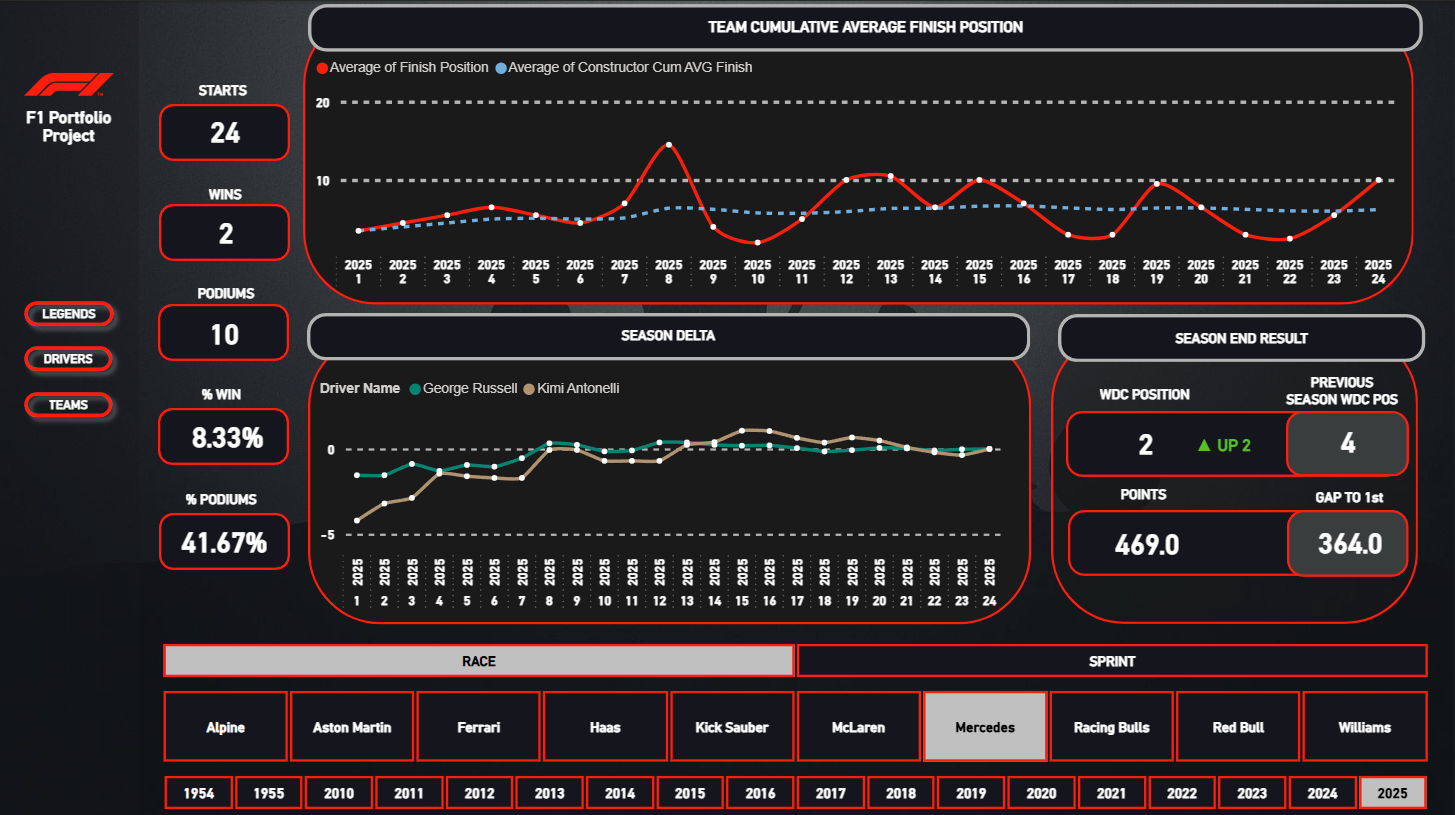

The page's visual inventory and layout, read from the dashboard file:
{"tool":"powerbi","page":{"name":"TEAMS","canvas":[1280,720],"ordinal":2},"visuals":[{"type":"image","title":"legends-background","box":[0,0,1280,719.5],"z":0},{"type":"shape","box":[0,0,124.6,719.6],"z":0,"group":"g3"},{"type":"shape","box":[268.8,9.8,975.5,257],"z":0,"group":"g18"},{"type":"shape","box":[142.1,90.6,115,50],"z":0,"group":"g14"},{"type":"shape","box":[142.1,178.2,115,50],"z":0,"group":"g10"},{"type":"shape","box":[141.3,266.9,115,50],"z":0,"group":"g8"},{"type":"shape","title":"Header Container","box":[931.2,274.8,322.5,42.3],"z":0,"group":"g11"},{"type":"shape","title":"Main Container","box":[925.5,289.1,322.4,258.1],"z":0,"group":"g15"},{"type":"shape","box":[272.4,292.2,635,255],"z":0,"group":"g17"},{"type":"textbox","box":[1125.1,322.3,112.5,45.7],"z":0,"group":"g12"},{"type":"textbox","box":[963.3,332.6,95.6,38.9],"z":0,"group":"g16"},{"type":"shape","box":[141,357.4,115,50],"z":0,"group":"g4"},{"type":"shape","title":"Main Holder","box":[938.6,360.3,295.8,57.8],"z":0,"group":"g9"},{"type":"group","id":"g1","title":"Current Points","box":[940.5,420.6,295.8,84.3],"z":0,"group":"g5"},{"type":"group","id":"g2","title":"% Race Podium","box":[142.1,425.2,115,74.9],"z":0,"group":"g7"},{"type":"shape","box":[940.5,447.1,295.8,57.8],"z":0,"group":"g1"},{"type":"shape","title":"Gap Holder","box":[1132.8,447.1,106.7,58.6],"z":0,"group":"g6"},{"type":"shape","box":[142.1,450.1,115,50],"z":0,"group":"g2"},{"type":"slicer","title":"Slicer Year","fields":{"Values":["DIM_year.Year"]},"box":[121.3,673.5,1158.3,38.2],"z":0,"group":"g13"},{"type":"group","id":"g3","title":"Sidebar_Master","box":[0,0,124.6,719.8],"z":1000},{"type":"lineChart","fields":{"Category":["DIM_round.Round","DIM_year.Year"],"Y":["Avg(v_analytics_race_evolution.Finish Position)","Avg(v_analytics_race_evolution.Constructor Cum AVG Finish)"]},"box":[274.7,39.5,958.8,222.5],"z":1000,"group":"g18"},{"type":"textbox","box":[172.1,66,65,26.5],"z":1000,"group":"g14"},{"type":"textbox","box":[180.5,157.1,45.8,34.9],"z":1000,"group":"g10"},{"type":"textbox","box":[171.3,244.6,63.8,26.5],"z":1000,"group":"g8"},{"type":"textbox","title":"text","box":[931.2,283.7,322.5,30],"z":1000,"group":"g11"},{"type":"actionButton","title":"Drivers_btn","box":[14.7,294.3,95.3,39.8],"z":1000,"group":"g3"},{"type":"lineChart","title":"Season Delta Chart","fields":{"Y":["Avg(v_analytics_race_evolution.Driver Finish Season Delta)"],"Category":["DIM_round.Round","DIM_year.Year"],"Series":["DIM_drivers.Driver Name"]},"box":[277.7,320.8,607.8,222.8],"z":1000,"group":"g17"},{"type":"group","id":"g4","title":"% Race Win","box":[141,332.9,115.7,74.5],"z":1000,"group":"g7"},{"type":"textbox","box":[174.6,332.9,48.2,26.5],"z":1000,"group":"g4"},{"type":"shape","title":"Prev WDC Holder","box":[1131.8,360.4,107.8,57.4],"z":1000,"group":"g9"},{"type":"card","fields":{"Values":["Sum(v_report_constructor_master.WCC Position)"]},"box":[980,364.9,57.8,45.6],"z":1000,"group":"g16"},{"type":"card","fields":{"Values":["v_analytics_race_evolution._Prev Year WCC Pos Team"]},"box":[1128.6,365.7,116,43.4],"z":1000,"group":"g12"},{"type":"group","id":"g5","title":"Points","box":[940.5,420.6,303.4,85.1],"z":1000,"group":"g15"},{"type":"textbox","box":[982,420.6,58.9,26.7],"z":1000,"group":"g1"},{"type":"group","id":"g6","title":"Gap Points","box":[1099.6,423.5,144.4,82.2],"z":1000,"group":"g5"},{"type":"textbox","box":[160.1,425.2,92,25],"z":1000,"group":"g2"},{"type":"slicer","title":"Slicer Driver","fields":{"Values":["DIM_constructors.Constructor Name"]},"box":[120.1,598.1,1159.5,76.4],"z":1000,"group":"g13"},{"type":"shape","box":[272.9,2.4,978.9,41.9],"z":2000,"group":"g18"},{"type":"image","box":[23.9,49.6,79.5,48.6],"z":2000,"group":"g3"},{"type":"group","id":"g7","title":"Stat_Box","box":[141,66,116.8,434.1],"z":2000},{"type":"card","fields":{"Values":["v_analytics_race_evolution._Dynamic Team Race Starts"]},"box":[170.1,91.7,60,46],"z":2000,"group":"g14"},{"type":"card","fields":{"Values":["v_analytics_race_evolution._Dynamic Team Wins1"]},"box":[171.1,180,60,46],"z":2000,"group":"g10"},{"type":"group","id":"g8","title":"Podiums","box":[141.3,244.6,114.5,72.3],"z":2000,"group":"g7"},{"type":"card","fields":{"Values":["v_analytics_race_evolution._Dynamic Team Podium"]},"box":[169.3,268.9,60,46],"z":2000,"group":"g8"},{"type":"shape","box":[271.9,273.8,635.2,41.6],"z":2000,"group":"g17"},{"type":"group","id":"g9","title":"WDC","box":[938.6,322.3,306.1,95.8],"z":2000,"group":"g15"},{"type":"card","fields":{"Values":["v_analytics_race_evolution._Win % Team"]},"box":[157.8,358,89.1,48.2],"z":2000,"group":"g4"},{"type":"card","title":"YoY WDC","fields":{"Values":["v_analytics_race_evolution._WDC YoY Diff Team"]},"box":[1029.4,369.1,94.9,44.5],"z":2000,"group":"g9"},{"type":"textbox","box":[1153.5,423.5,72.7,27],"z":2000,"group":"g6"},{"type":"card","title":"Points Card","fields":{"Values":["Sum(v_report_constructor_master.Official Season Points)"]},"box":[955,450.4,111.2,51.2],"z":2000,"group":"g1"},{"type":"card","fields":{"Values":["v_analytics_race_evolution._Podium % Team"]},"box":[147.9,451.1,102.3,46.4],"z":2000,"group":"g2"},{"type":"slicer","title":"Slicer Session","fields":{"Values":["DIM_session_type.Session Type"]},"box":[120.1,557.2,1160.2,41.6],"z":2000,"group":"g13"},{"type":"textbox","title":"Champion_seasons_txt","box":[271.6,10.4,983.1,30],"z":3000,"group":"g18"},{"type":"textbox","box":[5.8,89,113.8,91.1],"z":3000,"group":"g3"},{"type":"group","id":"g10","title":"Race Wins","box":[142.1,157.1,115.7,71.2],"z":3000,"group":"g7"},{"type":"group","id":"g11","title":"Header","box":[931.2,274.8,322.5,42.3],"z":3000,"group":"g15"},{"type":"textbox","title":"World_champions_txt","box":[273.1,280.9,632.8,27],"z":3000,"group":"g17"},{"type":"group","id":"g12","title":"Prev year WDC pos","box":[1125.1,322.3,119.6,86.7],"z":3000,"group":"g9"},{"type":"card","fields":{"Values":["v_analytics_race_evolution._Gap to Leader Team"]},"box":[1132.6,450.5,111.4,50.4],"z":3000,"group":"g6"},{"type":"group","id":"g13","title":"Slicers","box":[120.1,557.2,1159.9,154.6],"z":3000},{"type":"group","id":"g14","title":"Race Starts","box":[142.1,66,115.7,74.5],"z":4000,"group":"g7"},{"type":"group","id":"g15","title":"Overall Season","box":[925.5,274.8,328.3,272.4],"z":4000},{"type":"group","id":"g16","title":"WDC Position","box":[963.3,332.6,95.6,77.8],"z":4000,"group":"g9"},{"type":"actionButton","title":"Teams_btn","box":[14.7,334.1,95.3,39.8],"z":4000,"group":"g3"},{"type":"actionButton","title":"Legends_btn","box":[14.7,254.5,96.4,39.8],"z":5000,"group":"g3"},{"type":"group","id":"g17","title":"Season Delta","box":[271.9,273.8,635.5,273.4],"z":6000},{"type":"group","id":"g18","title":"Team Cum AVG","box":[268.8,2.4,986.2,264.1],"z":6500}]}

Visuals, with their boxes in screenshot pixels (x1, y1, x2, y2), scaled from the page's 1280x720 canvas onto the 1455x815 screenshot:
"legends-background" image: crop(0, 0, 1454, 814)
shape: crop(0, 0, 142, 814)
shape: crop(306, 11, 1414, 302)
shape: crop(162, 103, 292, 159)
shape: crop(162, 202, 292, 258)
shape: crop(161, 302, 291, 359)
"Header Container" shape: crop(1059, 311, 1425, 359)
"Main Container" shape: crop(1052, 327, 1419, 619)
shape: crop(310, 331, 1031, 619)
textbox: crop(1279, 365, 1407, 417)
textbox: crop(1095, 376, 1204, 421)
shape: crop(160, 405, 291, 461)
"Main Holder" shape: crop(1067, 408, 1403, 473)
"Current Points" group: crop(1069, 476, 1405, 572)
"% Race Podium" group: crop(162, 481, 292, 566)
shape: crop(1069, 506, 1405, 572)
"Gap Holder" shape: crop(1288, 506, 1409, 572)
shape: crop(162, 509, 292, 566)
"Slicer Year" slicer: crop(138, 762, 1454, 806)
"Sidebar_Master" group: crop(0, 0, 142, 814)
lineChart - DIM_round.Round x DIM_year.Year: crop(312, 45, 1402, 297)
textbox: crop(196, 75, 270, 105)
textbox: crop(205, 178, 257, 217)
textbox: crop(195, 277, 267, 307)
"text" textbox: crop(1059, 321, 1425, 355)
"Drivers_btn" actionButton: crop(17, 333, 125, 378)
"Season Delta Chart" lineChart: crop(316, 363, 1007, 615)
"% Race Win" group: crop(160, 377, 292, 461)
textbox: crop(198, 377, 253, 407)
"Prev WDC Holder" shape: crop(1287, 408, 1409, 473)
card - Sum(v_report_constructor_master.WCC Position): crop(1114, 413, 1180, 465)
card - v_analytics_race_evolution._Prev Year WCC Pos Team: crop(1283, 414, 1415, 463)
"Points" group: crop(1069, 476, 1414, 572)
textbox: crop(1116, 476, 1183, 506)
"Gap Points" group: crop(1250, 479, 1414, 572)
textbox: crop(182, 481, 287, 510)
"Slicer Driver" slicer: crop(137, 677, 1454, 763)
shape: crop(310, 3, 1423, 50)
image: crop(27, 56, 118, 111)
"Stat_Box" group: crop(160, 75, 293, 566)
card - v_analytics_race_evolution._Dynamic Team Race Starts: crop(193, 104, 262, 156)
card - v_analytics_race_evolution._Dynamic Team Wins1: crop(194, 204, 263, 256)
"Podiums" group: crop(161, 277, 291, 359)
card - v_analytics_race_evolution._Dynamic Team Podium: crop(192, 304, 261, 356)
shape: crop(309, 310, 1031, 357)
"WDC" group: crop(1067, 365, 1415, 473)
card - v_analytics_race_evolution._Win % Team: crop(179, 405, 281, 460)
"YoY WDC" card: crop(1170, 418, 1278, 468)
textbox: crop(1311, 479, 1394, 510)
"Points Card" card: crop(1086, 510, 1212, 568)
card - v_analytics_race_evolution._Podium % Team: crop(168, 511, 284, 563)
"Slicer Session" slicer: crop(137, 631, 1454, 678)
"Champion_seasons_txt" textbox: crop(309, 12, 1426, 46)
textbox: crop(7, 101, 136, 204)
"Race Wins" group: crop(162, 178, 293, 258)
"Header" group: crop(1059, 311, 1425, 359)
"World_champions_txt" textbox: crop(310, 318, 1030, 349)
"Prev year WDC pos" group: crop(1279, 365, 1415, 463)
card - v_analytics_race_evolution._Gap to Leader Team: crop(1287, 510, 1414, 567)
"Slicers" group: crop(137, 631, 1454, 806)
"Race Starts" group: crop(162, 75, 293, 159)
"Overall Season" group: crop(1052, 311, 1425, 619)
"WDC Position" group: crop(1095, 376, 1204, 465)
"Teams_btn" actionButton: crop(17, 378, 125, 423)
"Legends_btn" actionButton: crop(17, 288, 126, 333)
"Season Delta" group: crop(309, 310, 1031, 619)
"Team Cum AVG" group: crop(306, 3, 1427, 302)
